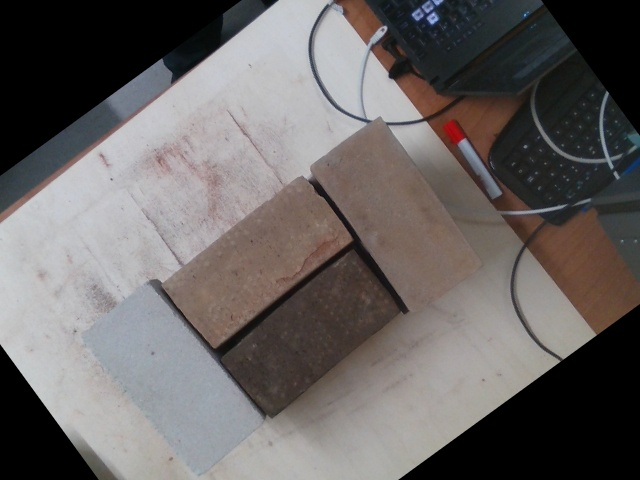brick: (82, 282, 264, 477), (309, 116, 483, 312), (164, 176, 350, 347), (218, 251, 401, 418)
